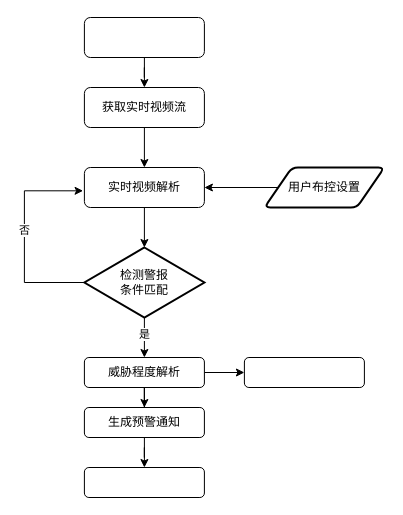
This 403x515 diagram has some shape labels left out. Here are the shapes that lost their labels. From the top down, the centre of each, then its label:
At point 143,37: "开始".
At point 303,372: "地图可视化显示".
At point 143,482: "更新摄像头状态".
